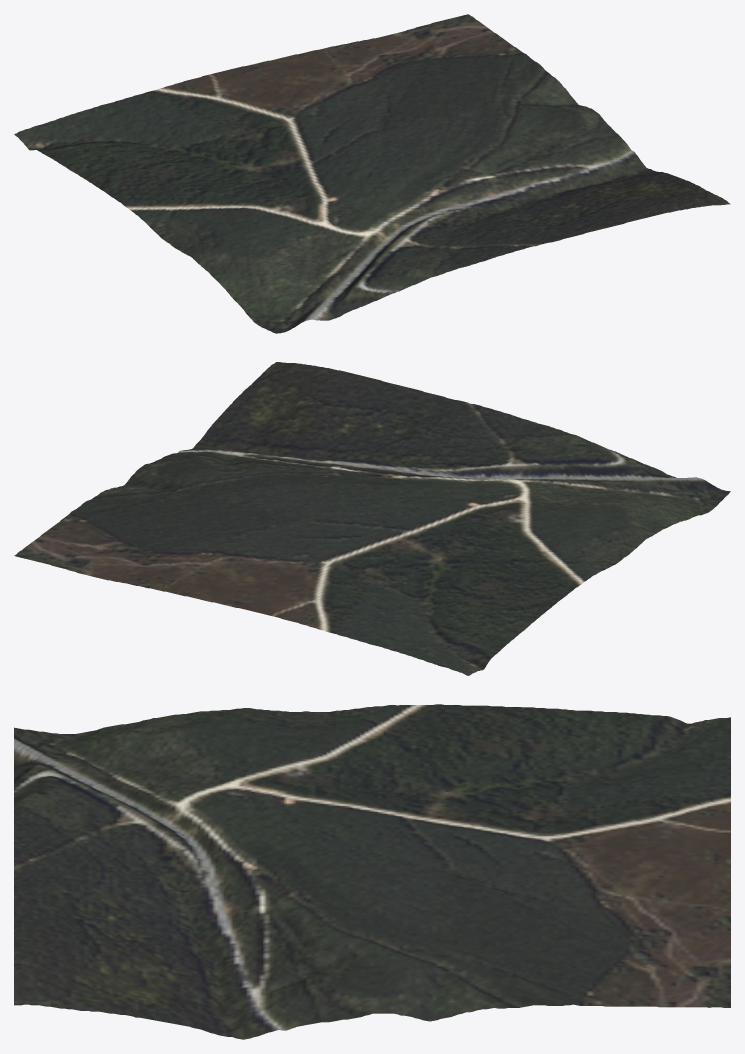
Rendered from tile_0_2.glb.
The picture shows the model from 3 angles, top to bottom: view 1: azimuth 30°, elevation 25°; view 2: azimuth 150°, elevation 25°; view 3: azimuth 270°, elevation 25°; orthographic projection. The views are drawn at different scales.
Parts seen in each view (by area): view 1: tile_0_2; view 2: tile_0_2; view 3: tile_0_2.
Boxes of the visible parts, left/top/right/bottom form: tile_0_2: left=14, top=14, right=730, bottom=333; tile_0_2: left=14, top=362, right=730, bottom=675; tile_0_2: left=14, top=704, right=730, bottom=1039.
Bounding box in the file's own units: 1000 × 68 × 1000.
1 material, 1 textured.
